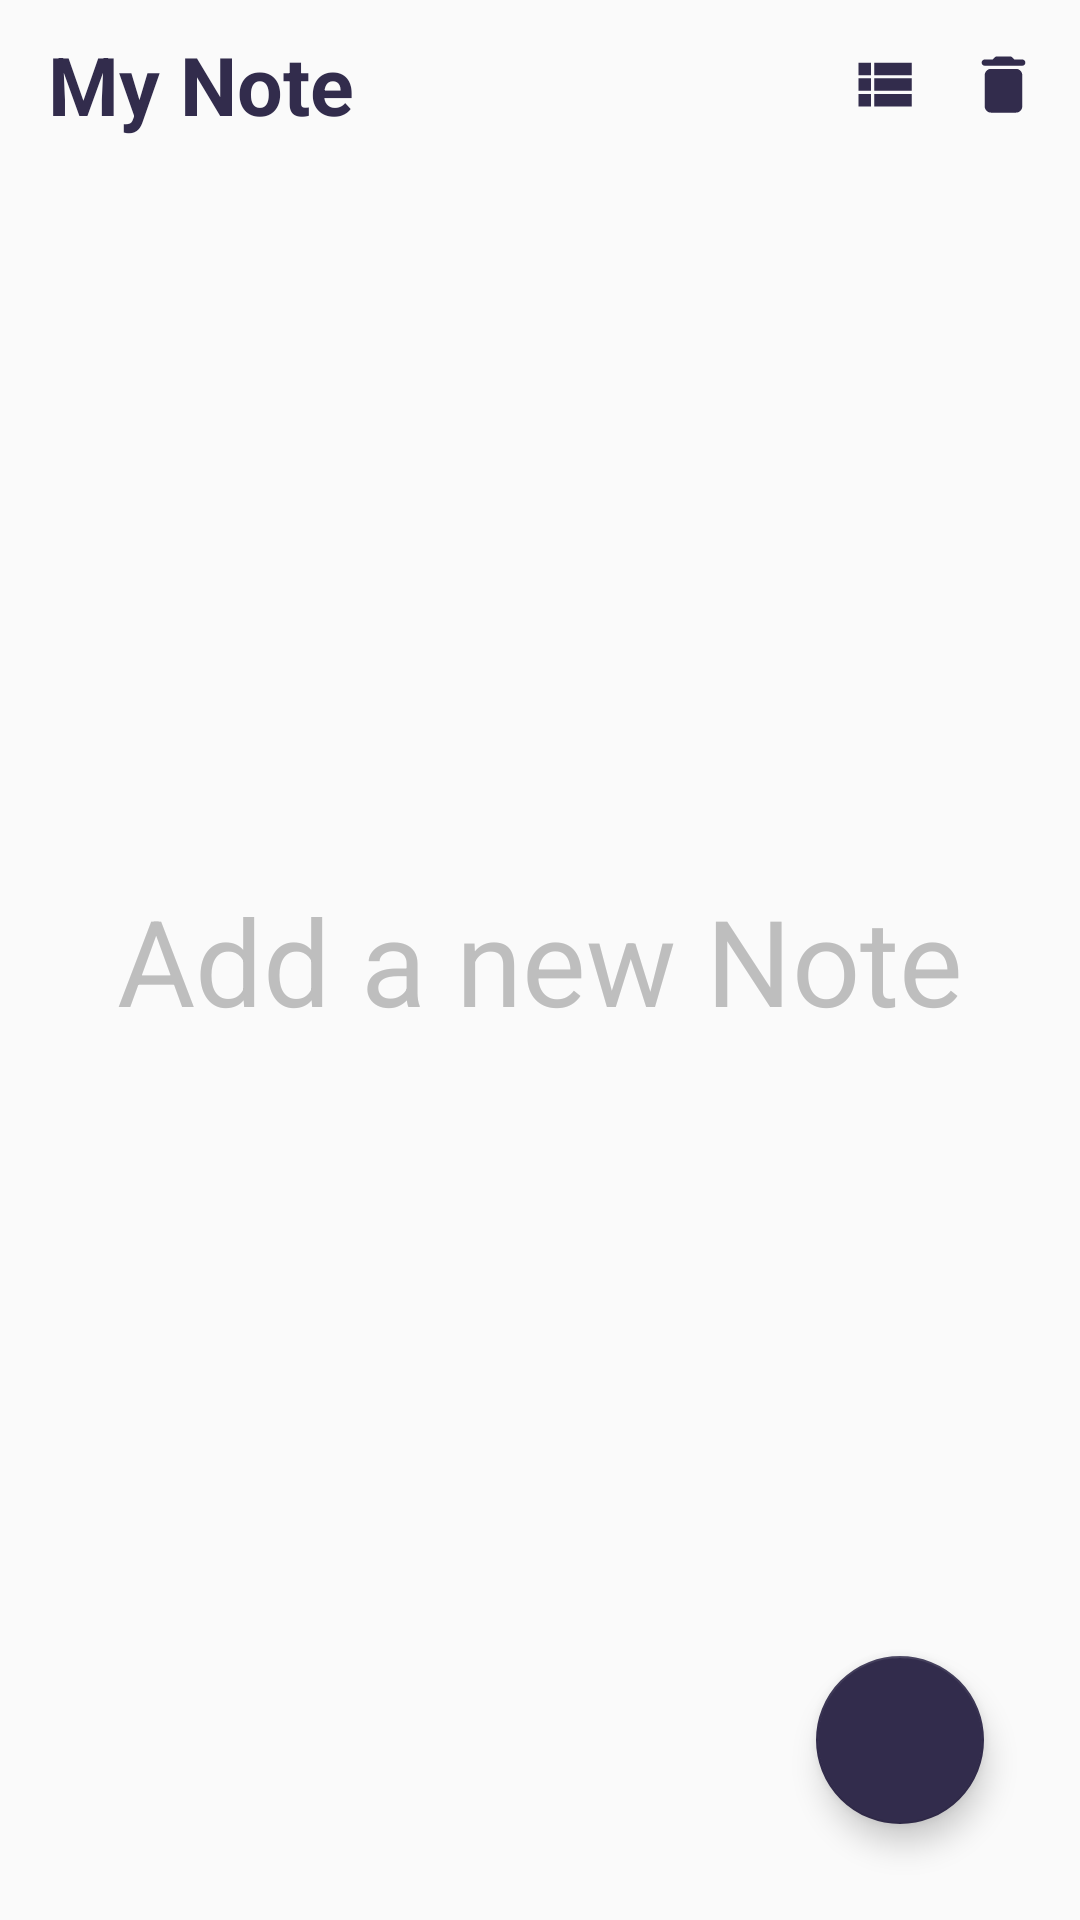

Named icons in this screenshot (1080x1920) and their centers, point (x, y):
delete: point (1003, 84)
view list: point (885, 84)
